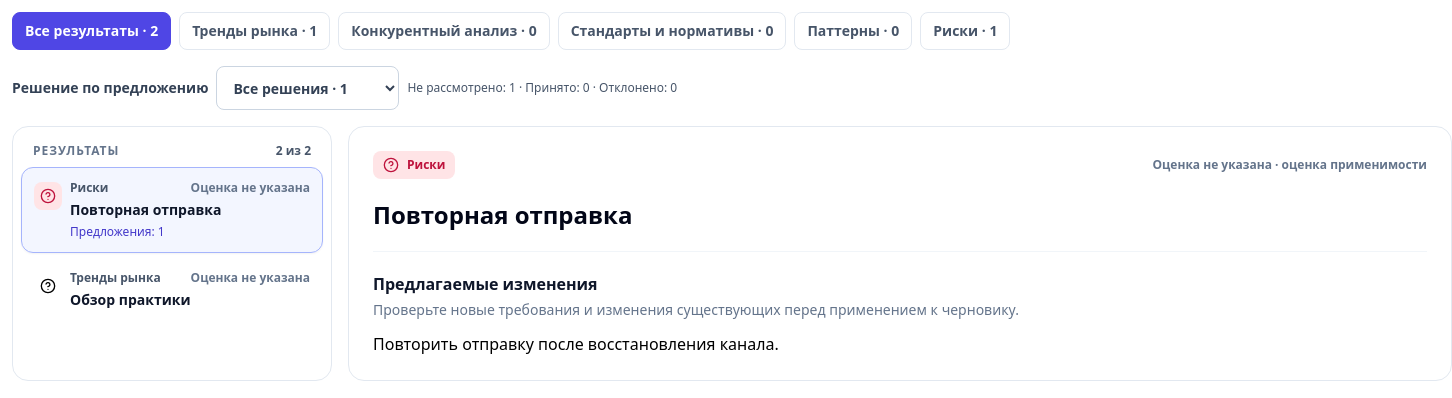
Test case: opens proposals before analytical findings and shows the explanation of an empty proposal list
Expected: the heading "Повторная отправка" is shown, [373,198,632,231]
Expected: the text "Предложения: 1" is shown, [70,223,165,240]
Click the button "Тренды рынка Оценка не указана Обзор практики": (172, 290) [21,257,323,323]
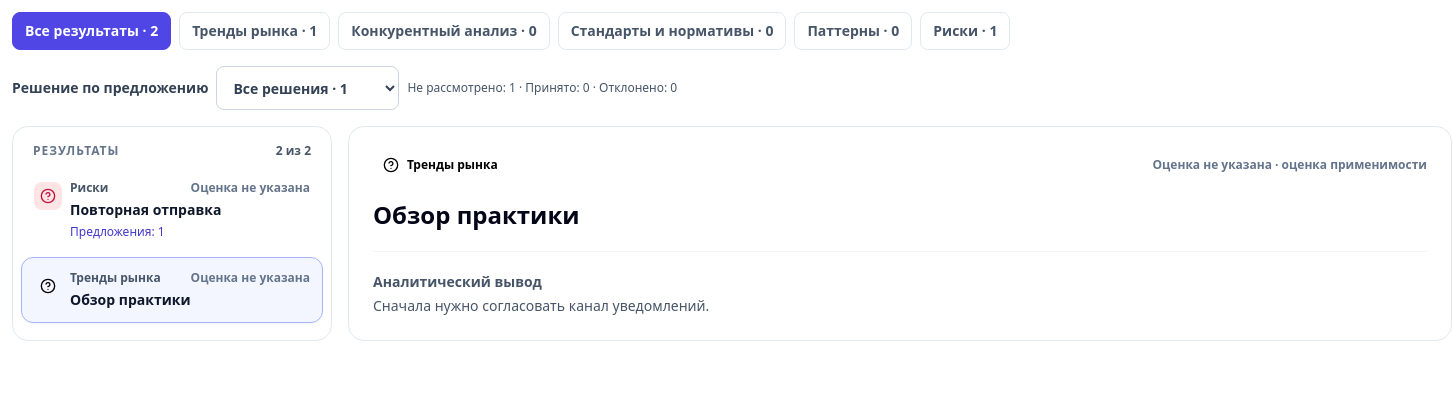
Now the text "Аналитический вывод" is shown, box [373,272,542,291]
Now the text "Сначала нужно согласовать канал уведомлений." is shown, box [373,296,709,315]
